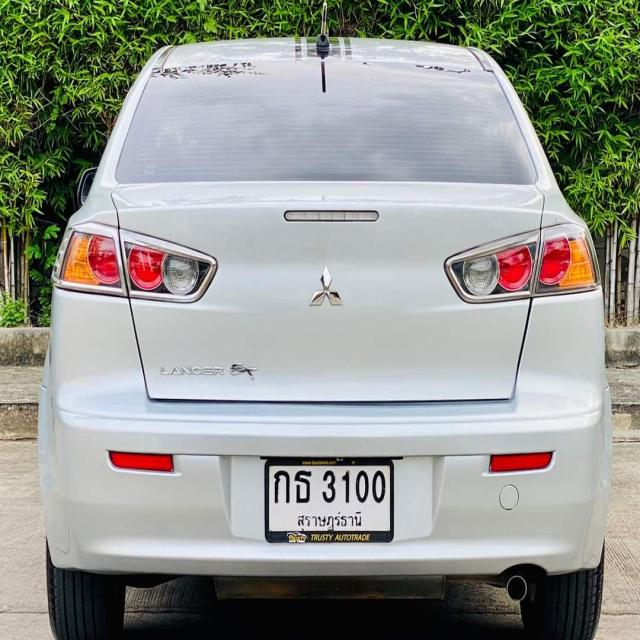license_plate: (263, 452, 396, 542)
